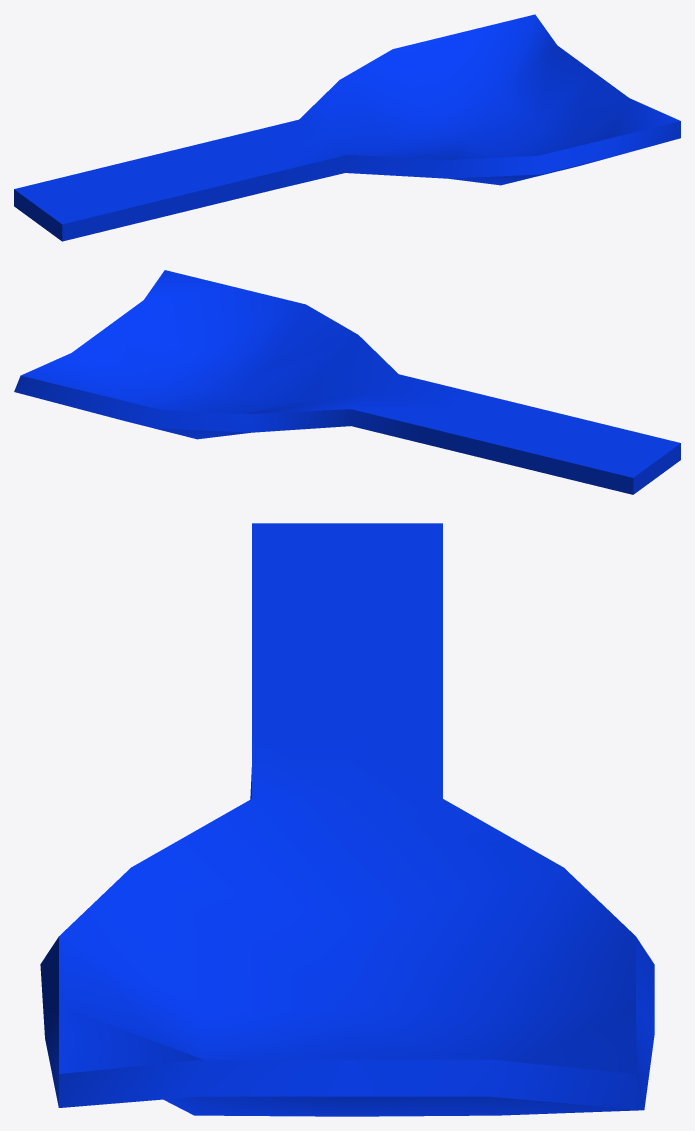
The model's file is MOD_pellesable.FBX.
The picture shows the model from 3 angles, top to bottom: view 1: azimuth 30°, elevation 25°; view 2: azimuth 150°, elevation 25°; view 3: azimuth 270°, elevation 25°; orthographic projection. The views are drawn at different scales.
Parts seen in each view (by area): view 1: Plane002; view 2: Plane002; view 3: Plane002.
Part boxes in pixels (<box>): Plane002: <box>14,14,680,241</box>; Plane002: <box>14,270,680,494</box>; Plane002: <box>40,523,654,1116</box>.
Size of the model in its own units: 0.3613 by 0.0328 by 0.1689.
